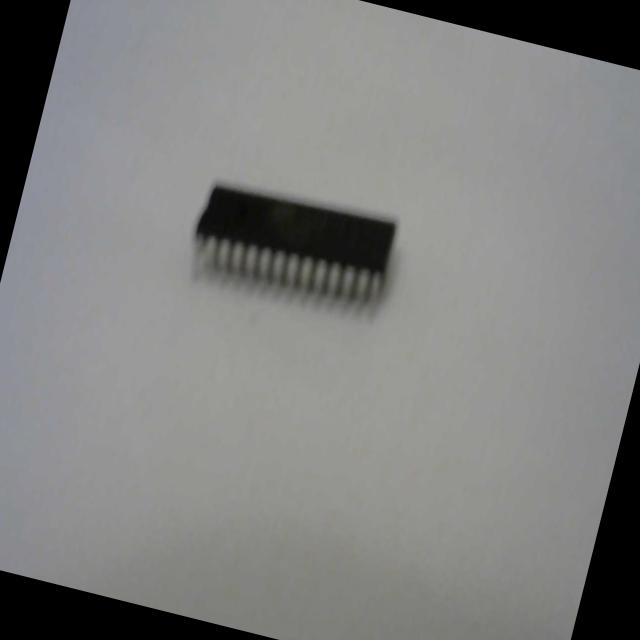atmega: (179, 168, 404, 330)
